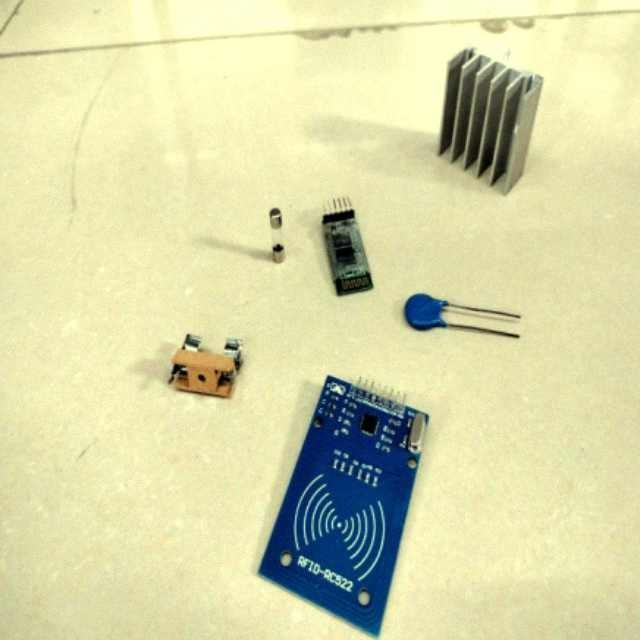capacitor: (404, 294, 442, 331)
